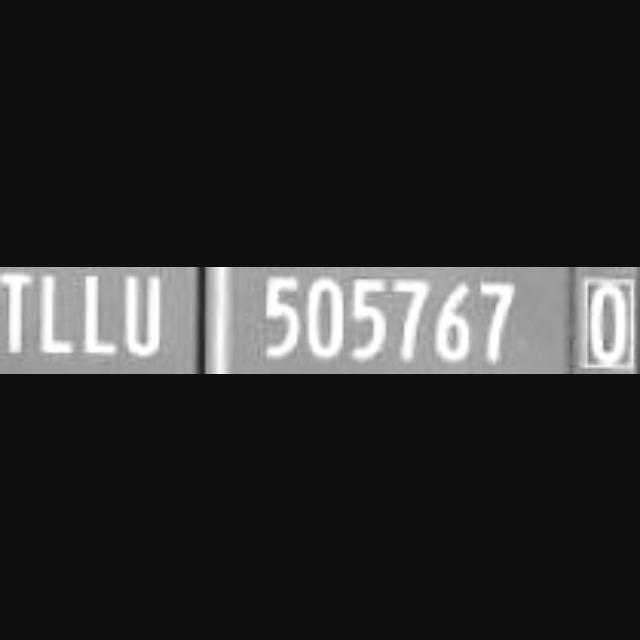0: (305, 266, 347, 364), (585, 273, 627, 369)
5: (350, 266, 390, 368), (263, 266, 305, 362)
6: (435, 266, 477, 366)
7: (476, 266, 520, 366), (389, 266, 431, 364)
l: (36, 266, 80, 358), (81, 266, 122, 358)
t: (1, 266, 34, 360)
u: (121, 266, 169, 360)
